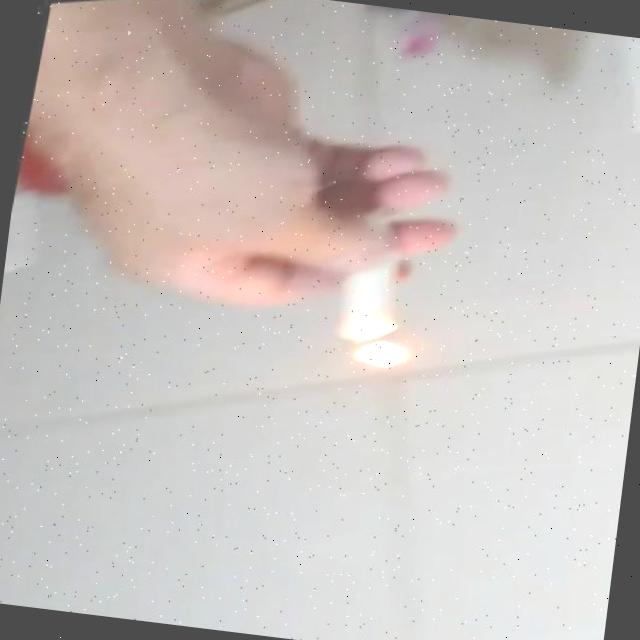fire: (339, 326, 417, 382)
